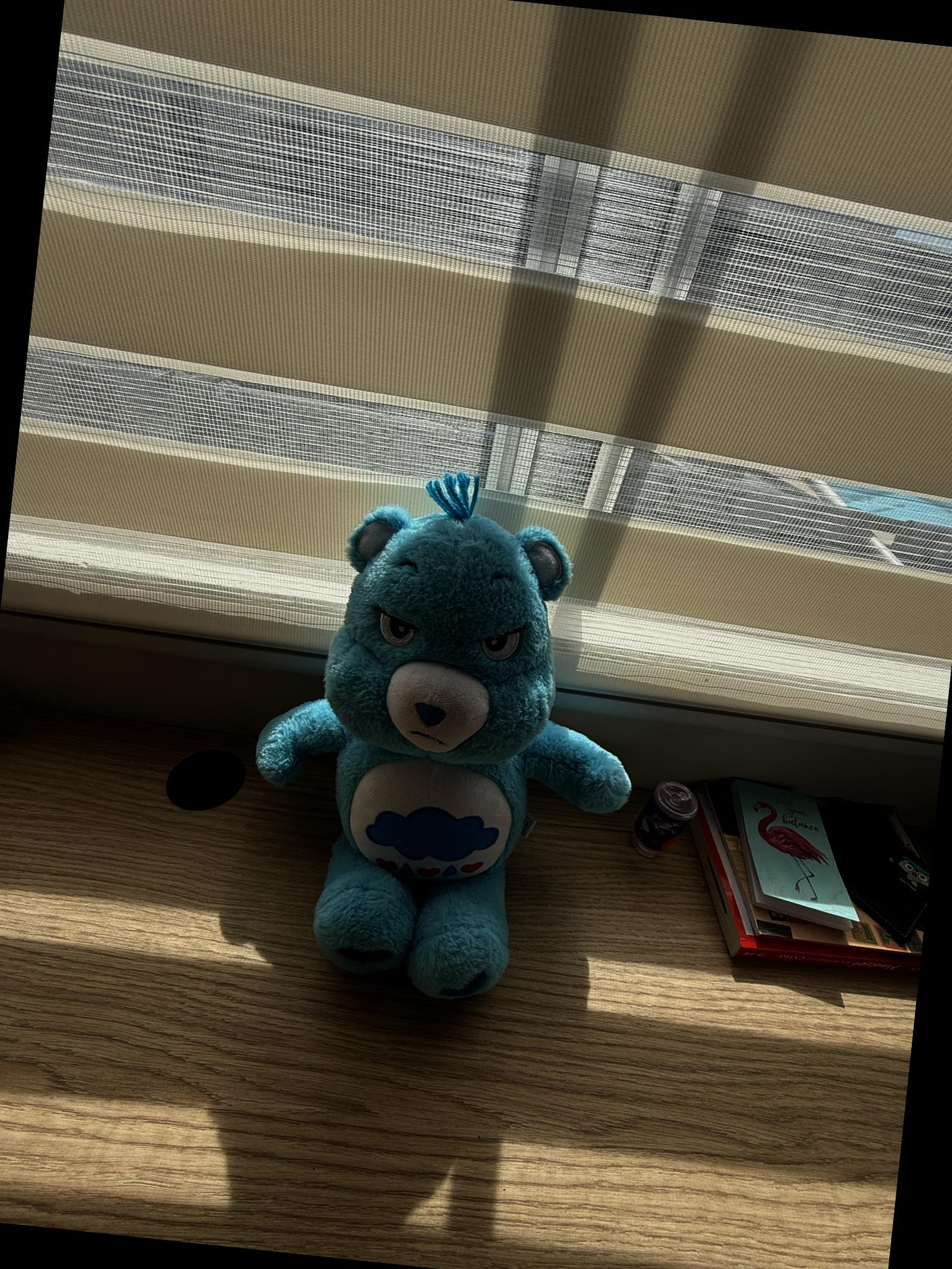peluche_Juan Jose: (272, 468, 597, 1016)
